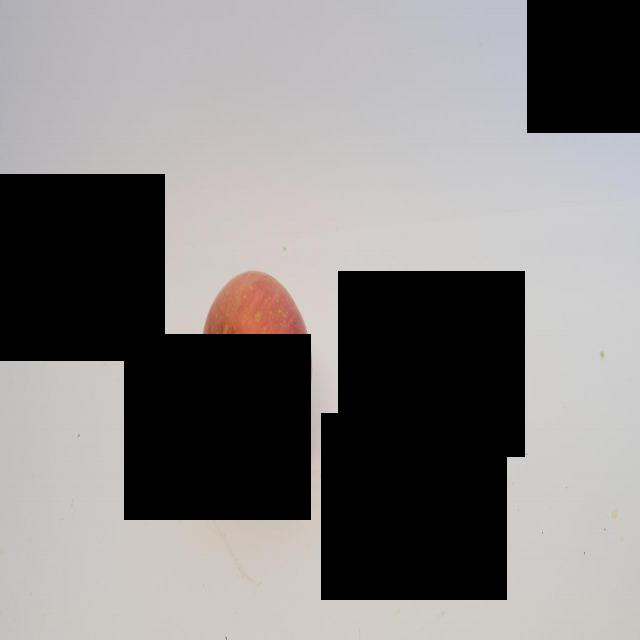apple: (204, 265, 315, 480)
